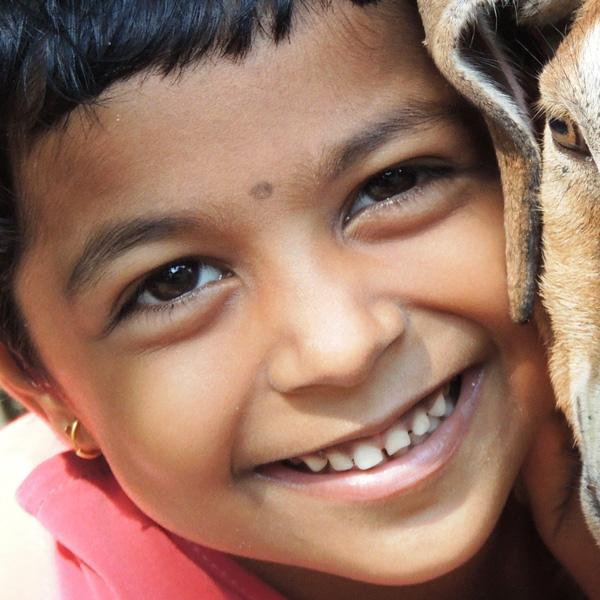Eyes: (102, 238, 241, 342), (334, 137, 462, 239)
